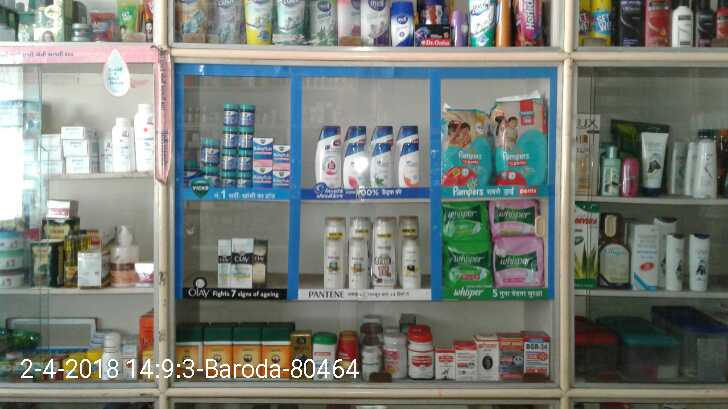vicks: (256, 136, 275, 164), (202, 137, 220, 165), (240, 104, 256, 130), (222, 103, 236, 127), (253, 168, 271, 186), (272, 168, 290, 186), (235, 170, 252, 189), (202, 168, 218, 187), (238, 131, 254, 149), (222, 127, 235, 149), (221, 169, 235, 189), (222, 149, 235, 169), (277, 143, 289, 164), (240, 151, 252, 168)
